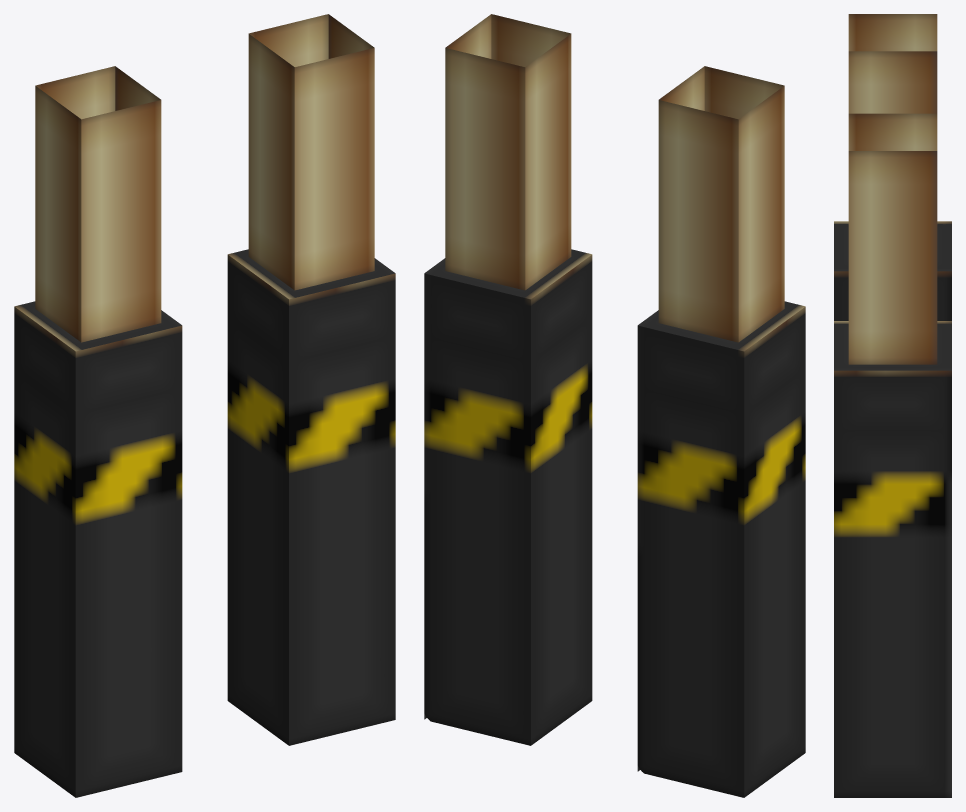
File: strong_pivot.obj
3 views of the same model, side by side, from view 1: azimuth 30°, elevation 25°; view 2: azimuth 150°, elevation 25°; view 3: azimuth 270°, elevation 25° (orthographic). The views are drawn at different scales.
Parts seen in each view (by area): view 1: strong_pivot; view 2: strong_pivot; view 3: strong_pivot.
Boxes of the visible parts, bbox=[...] form: strong_pivot: bbox=[14, 14, 395, 797]; strong_pivot: bbox=[424, 14, 805, 797]; strong_pivot: bbox=[834, 14, 951, 797].
Bounding box in the file's own units: 1.5 × 3 × 0.5.
